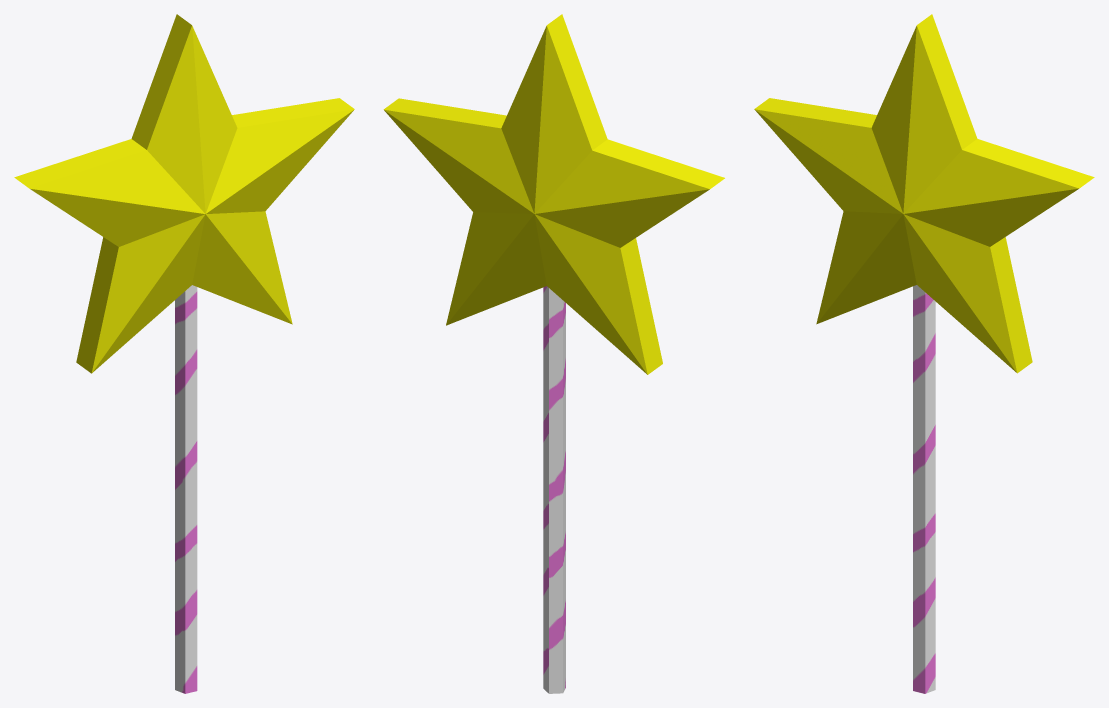
File: weapon.obj
3 renders of one model, left to right at view 1: azimuth 30°, elevation 25°; view 2: azimuth 150°, elevation 25°; view 3: azimuth 330°, elevation 25°, orthographic.
Parts seen in each view (by area): view 1: 円柱.005; view 2: 円柱.005; view 3: 円柱.005.
Boxes of the visible parts, x1=… form: 円柱.005: x1=14, y1=14, x2=354, y2=693; 円柱.005: x1=383, y1=14, x2=724, y2=693; 円柱.005: x1=754, y1=14, x2=1094, y2=693.
Size of the model in its own units: 0.8265 by 1.62 by 0.1807.
1 material, 1 textured.
